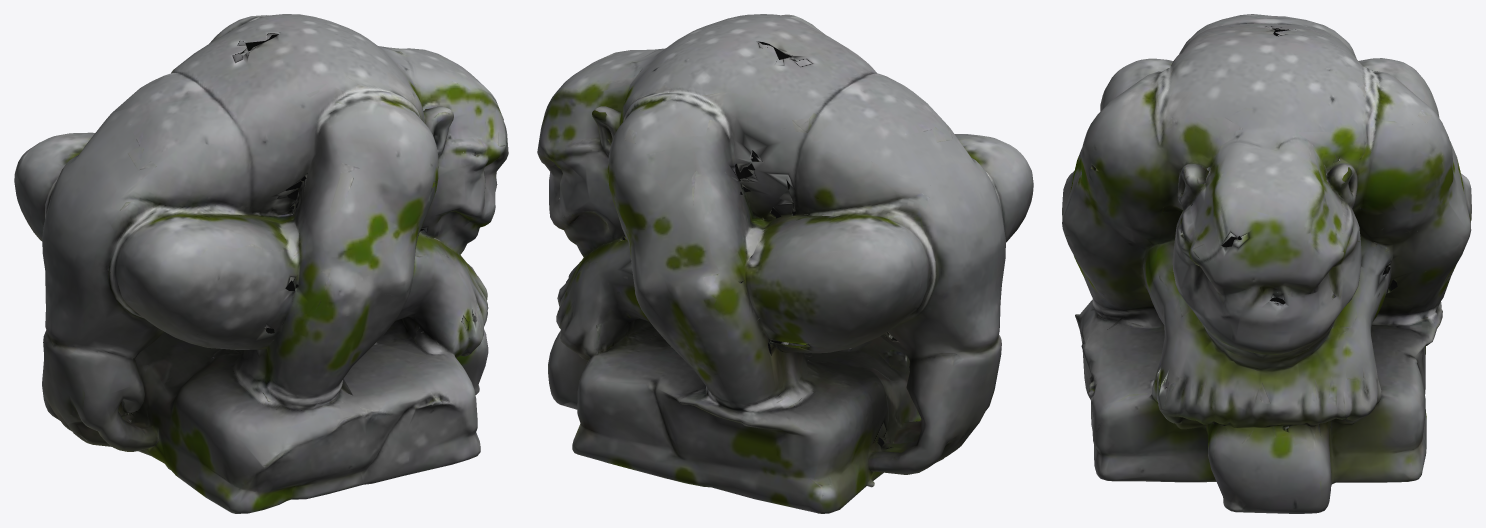
The model's file is stone_idol.glb.
3 renders of one model, left to right at view 1: azimuth 30°, elevation 25°; view 2: azimuth 150°, elevation 25°; view 3: azimuth 270°, elevation 25°, orthographic.
Parts seen in each view (by area): view 1: Mesh1.0; view 2: Mesh1.0; view 3: Mesh1.0.
Boxes of the visible parts, <box> form: Mesh1.0: <box>14,14,508,513</box>; Mesh1.0: <box>537,14,1033,513</box>; Mesh1.0: <box>1062,14,1471,513</box>.
Bounding box in the file's own units: 2 × 1.72 × 1.62.
Materials: 1 (1 with a texture image).
